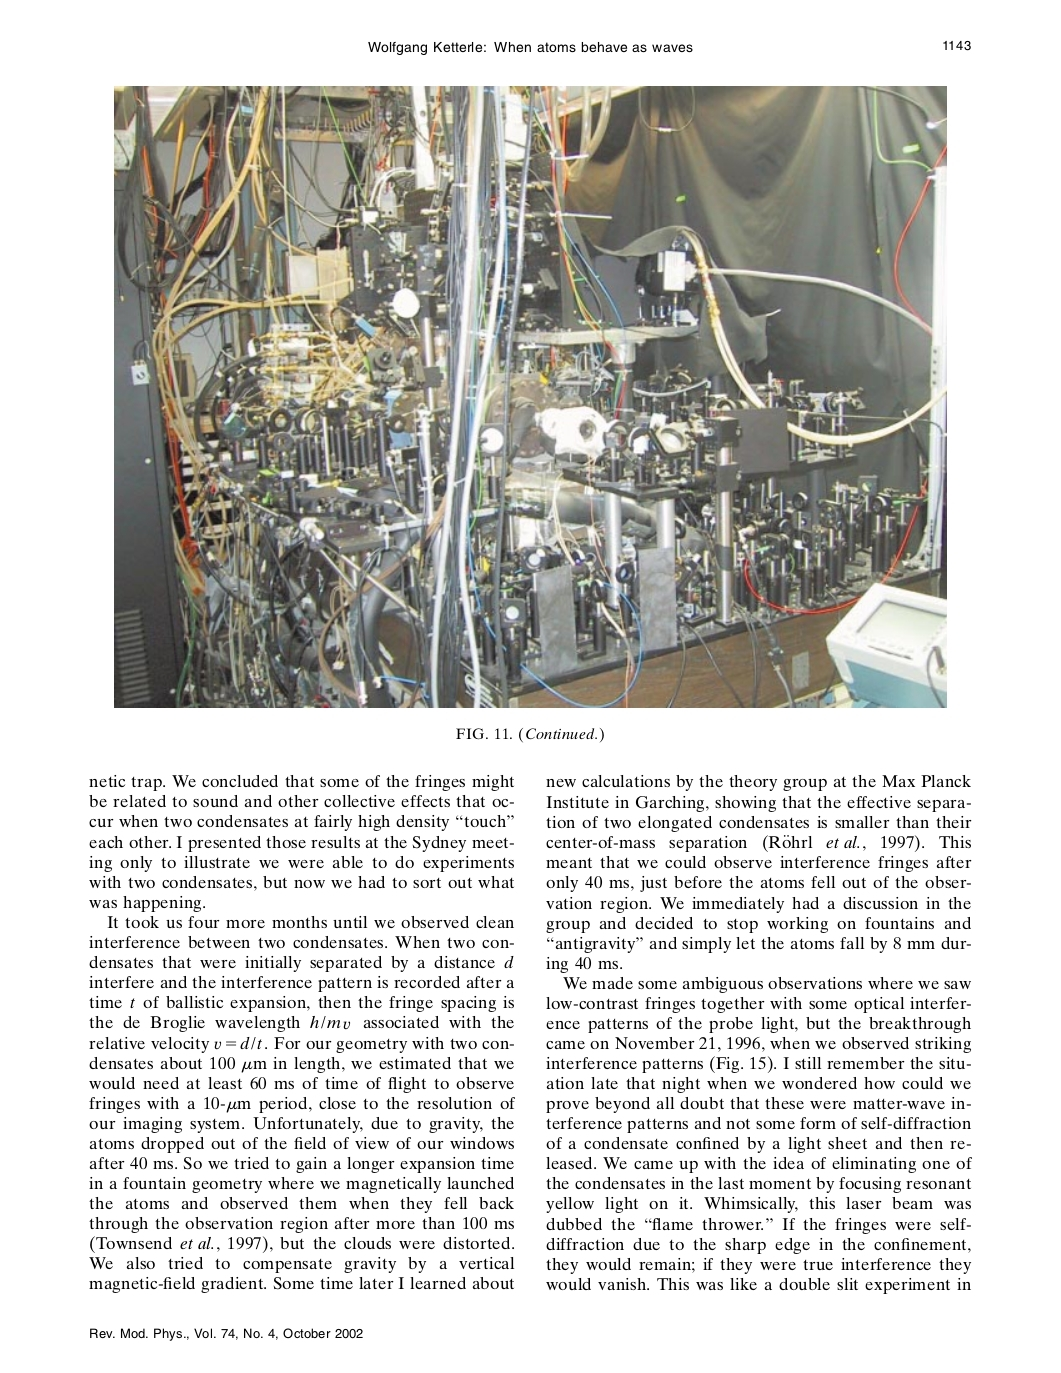figure: (114, 85, 947, 708)
